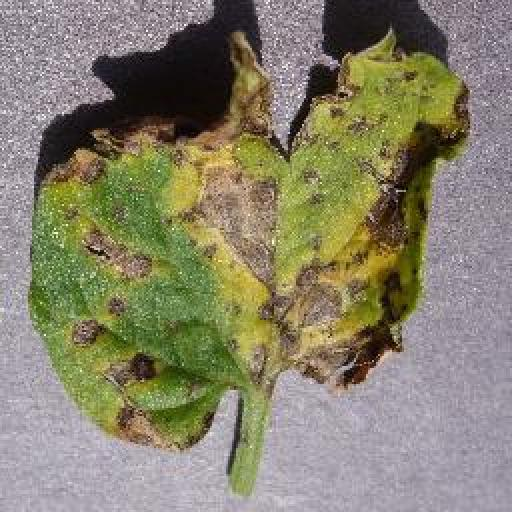Septoria: (30, 27, 468, 452)
